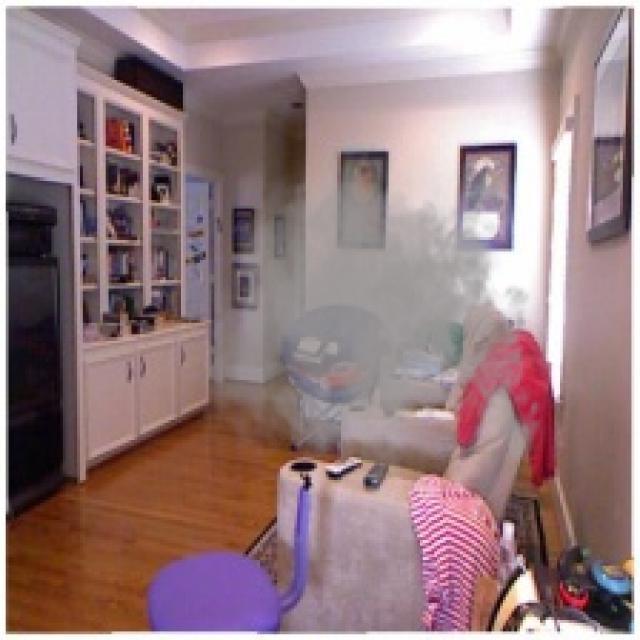Smoke: (199, 106, 552, 520)
